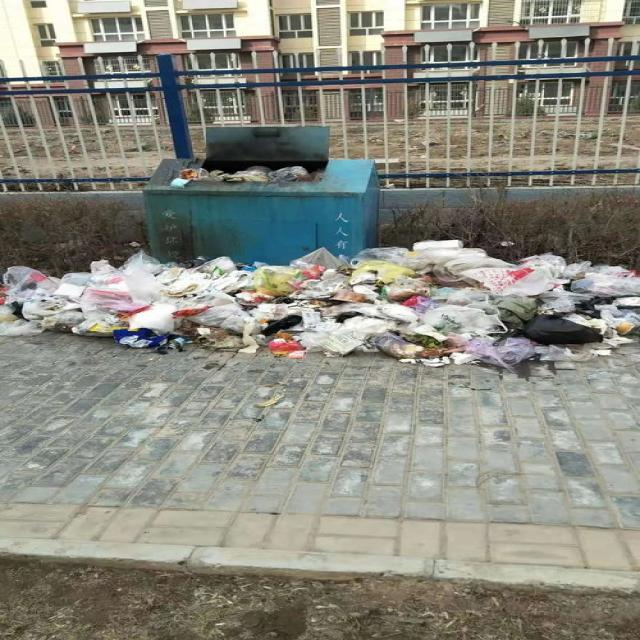garbage: (0, 239, 639, 364)
overflow: (139, 157, 379, 267)
